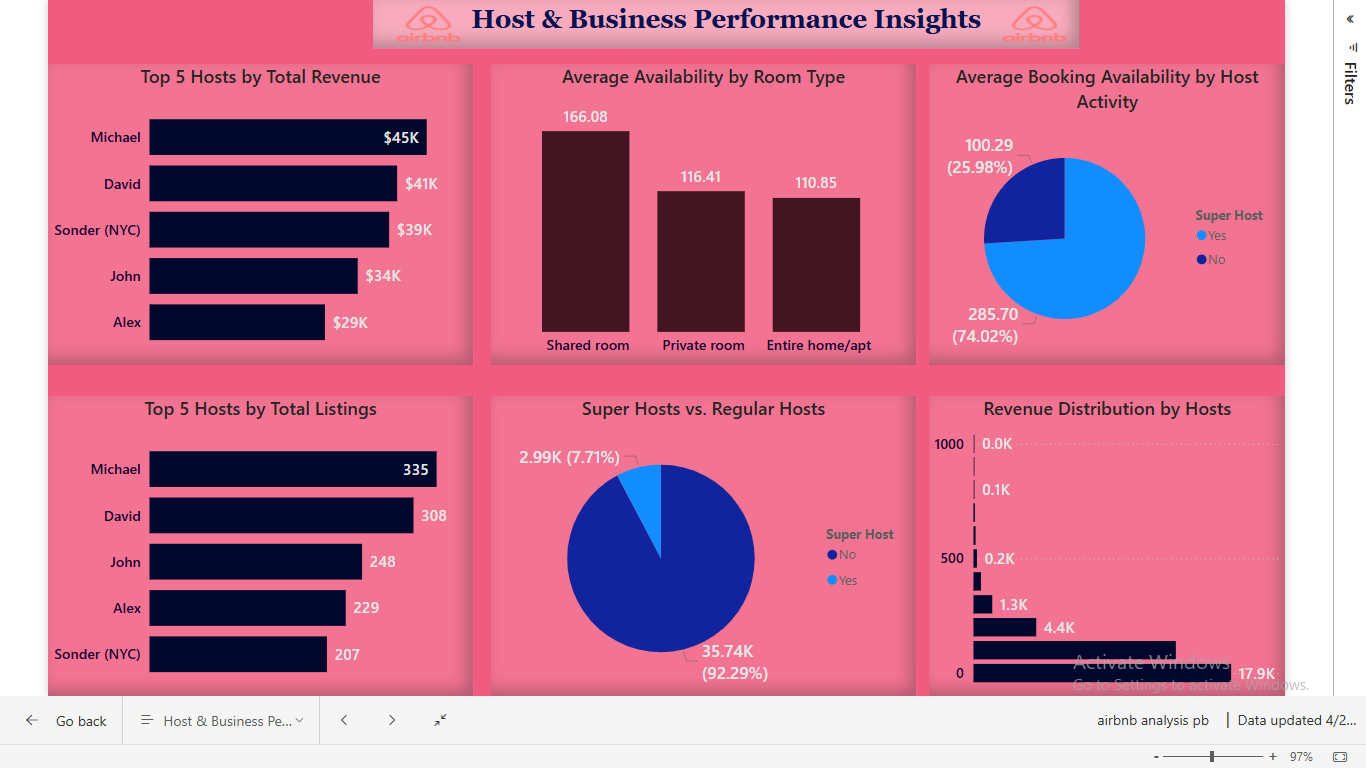

The page's visual inventory and layout, read from the dashboard file:
{"tool":"powerbi","page":{"name":" Host & Business Performance Insights","canvas":[1280,720],"ordinal":2},"visuals":[{"type":"clusteredBarChart","title":"Top 5 Hosts by Total Listings","fields":{"Category":["AirBnb_NYC_2019.host_name"],"Y":["Measures Table.Total Listing"]},"box":[0,409.2,439.6,311.1],"z":0},{"type":"clusteredColumnChart","title":" Average Availability by Room Type","fields":{"Category":["AirBnb_NYC_2019.room_type"],"Y":["AirBnb_NYC_2019.availability_365"]},"box":[458.2,65.9,439.6,311.1],"z":1000},{"type":"clusteredBarChart","title":"Top 5 Hosts by Total Revenue","fields":{"Category":["AirBnb_NYC_2019.host_name"],"Y":["Measures Table.Total Revenue"]},"box":[0,65.9,439.6,311.1],"z":2000},{"type":"clusteredBarChart","title":"Revenue Distribution by Hosts","fields":{"Y":["AirBnb_NYC_2019.host_name"],"Category":["AirBnb_NYC_2019.price (bins)"]},"box":[911.4,409.2,368.6,311.1],"z":3000},{"type":"pieChart","title":"Super Hosts vs. Regular Hosts","fields":{"Category":["AirBnb_NYC_2019.Super Host"],"Y":["AirBnb_NYC_2019.id"]},"box":[458.2,409.2,439.6,311.1],"z":4000},{"type":"pieChart","title":"Average Booking Availability by Host Activity","fields":{"Category":["AirBnb_NYC_2019.Super Host"],"Y":["AirBnb_NYC_2019.availability_365"]},"box":[911.4,65.9,368.6,311.1],"z":5000},{"type":"textbox","box":[336,0,730.7,50.4],"z":7000},{"type":"image","box":[347.7,0,92.4,50.4],"z":8000},{"type":"image","box":[974.3,0,92.4,50.4],"z":9000}]}

Visuals, with their boxes on the page's 1280x720 design canvas (x1, y1, x2, y2). These are canvas units, not pixel positions in the 1366x768 screenshot, which may show the page scaled, cropped or inside an application window:
"Top 5 Hosts by Total Listings" clusteredBarChart: detection(0, 409, 440, 720)
" Average Availability by Room Type" clusteredColumnChart: detection(458, 66, 898, 377)
"Top 5 Hosts by Total Revenue" clusteredBarChart: detection(0, 66, 440, 377)
"Revenue Distribution by Hosts" clusteredBarChart: detection(911, 409, 1280, 720)
"Super Hosts vs. Regular Hosts" pieChart: detection(458, 409, 898, 720)
"Average Booking Availability by Host Activity" pieChart: detection(911, 66, 1280, 377)
textbox: detection(336, 0, 1067, 50)
image: detection(348, 0, 440, 50)
image: detection(974, 0, 1067, 50)
